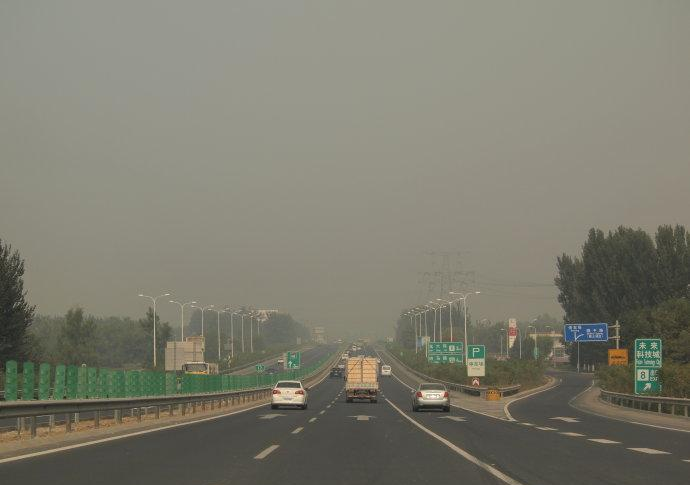bus: (344, 357, 380, 405), (180, 359, 220, 393)
car: (270, 380, 309, 411), (412, 383, 450, 412), (329, 367, 343, 379), (381, 364, 393, 377)
